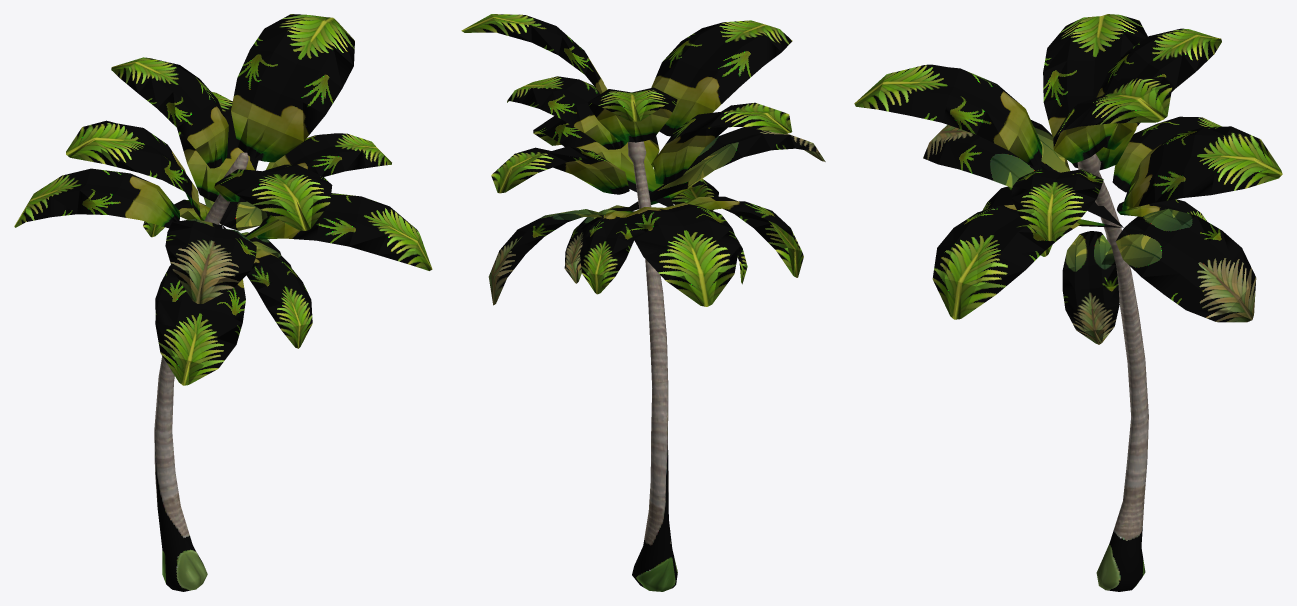
File: Palm01.glb
3 renders of one model, left to right at view 1: azimuth 30°, elevation 25°; view 2: azimuth 150°, elevation 25°; view 3: azimuth 270°, elevation 25°, orthographic. The views are drawn at different scales.
Parts seen in each view (by area): view 1: Palm01; view 2: Palm01; view 3: Palm01.
Boxes of the visible parts, <box> form: Palm01: <box>14,14,432,591</box>; Palm01: <box>461,14,825,591</box>; Palm01: <box>854,14,1282,591</box>.
Size of the model in its own units: 10.17 by 16.98 by 11.53.
Materials: 1 (1 with a texture image).
